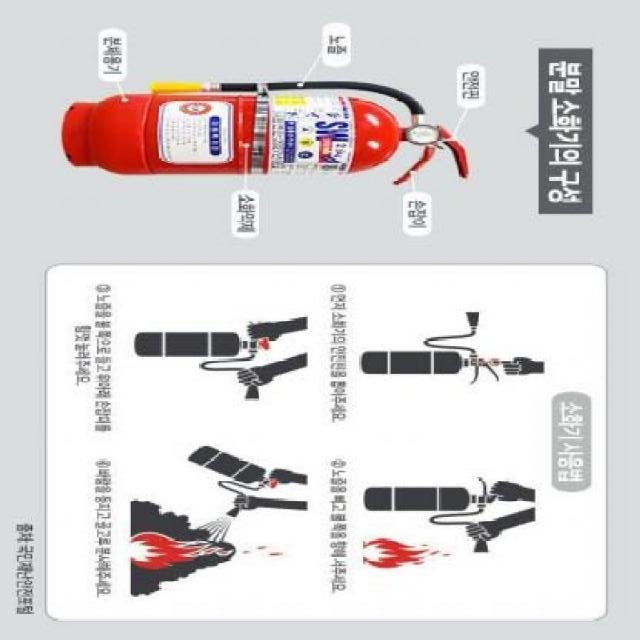fire extinguisher: (62, 79, 470, 185)
